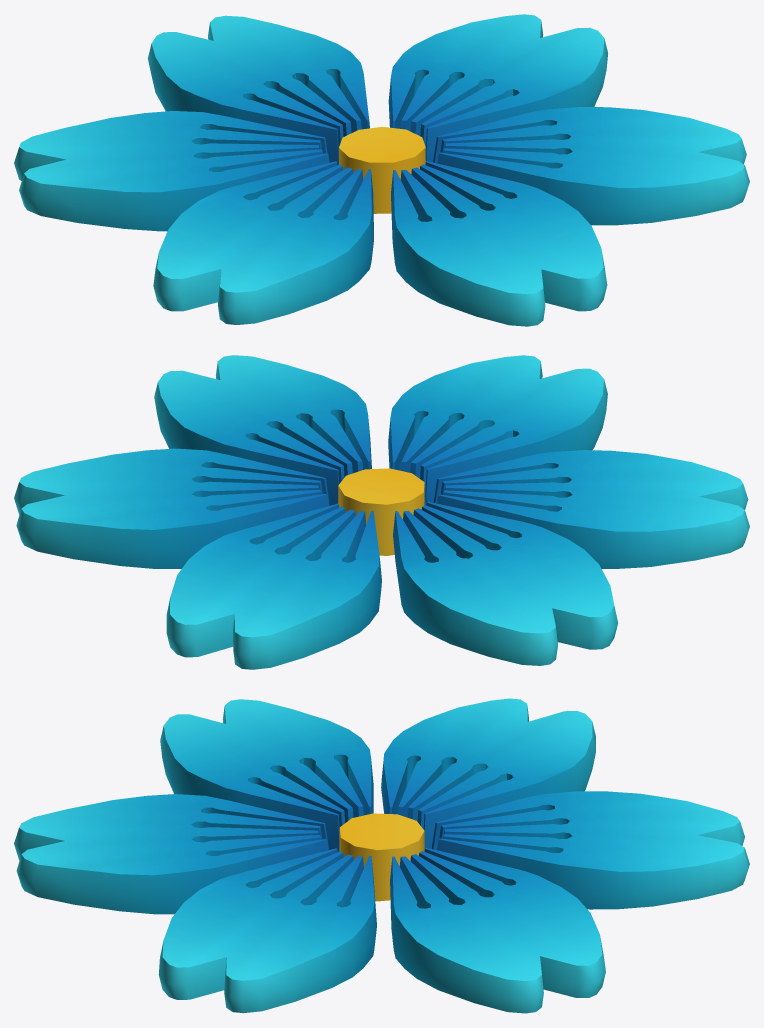
The model's file is cyan.fbx.
3 views of the same model, one above another, from view 1: azimuth 30°, elevation 25°; view 2: azimuth 150°, elevation 25°; view 3: azimuth 270°, elevation 25° (orthographic).
Visible parts, largest first — view 1: Cylinder004.016; view 2: Cylinder004.016; view 3: Cylinder004.016.
Part boxes in pixels (x1,y1,x2,y2): Cylinder004.016: [14, 14, 749, 326]; Cylinder004.016: [14, 355, 749, 669]; Cylinder004.016: [14, 698, 749, 1013].
Size of the model in its own units: 29.68 by 2.47 by 32.19.
